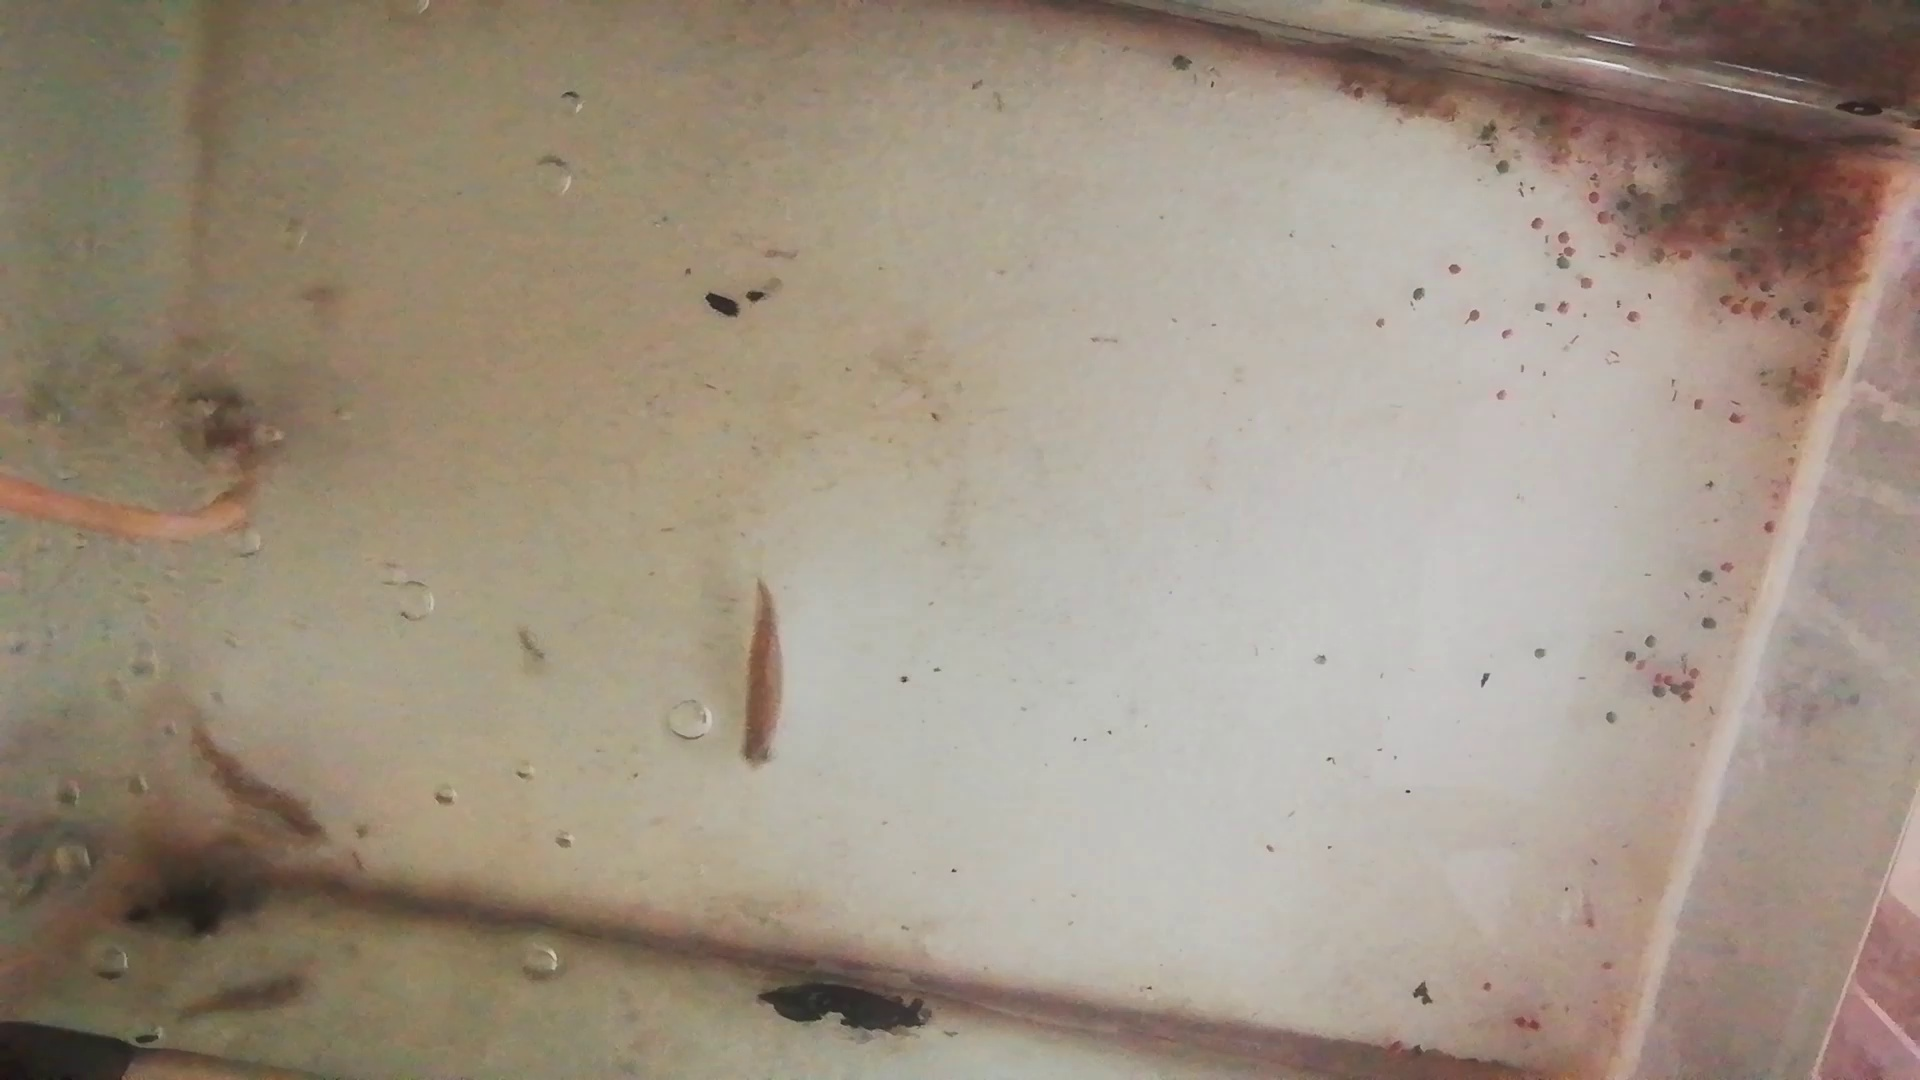fish: (178, 704, 334, 844), (733, 574, 790, 775)
